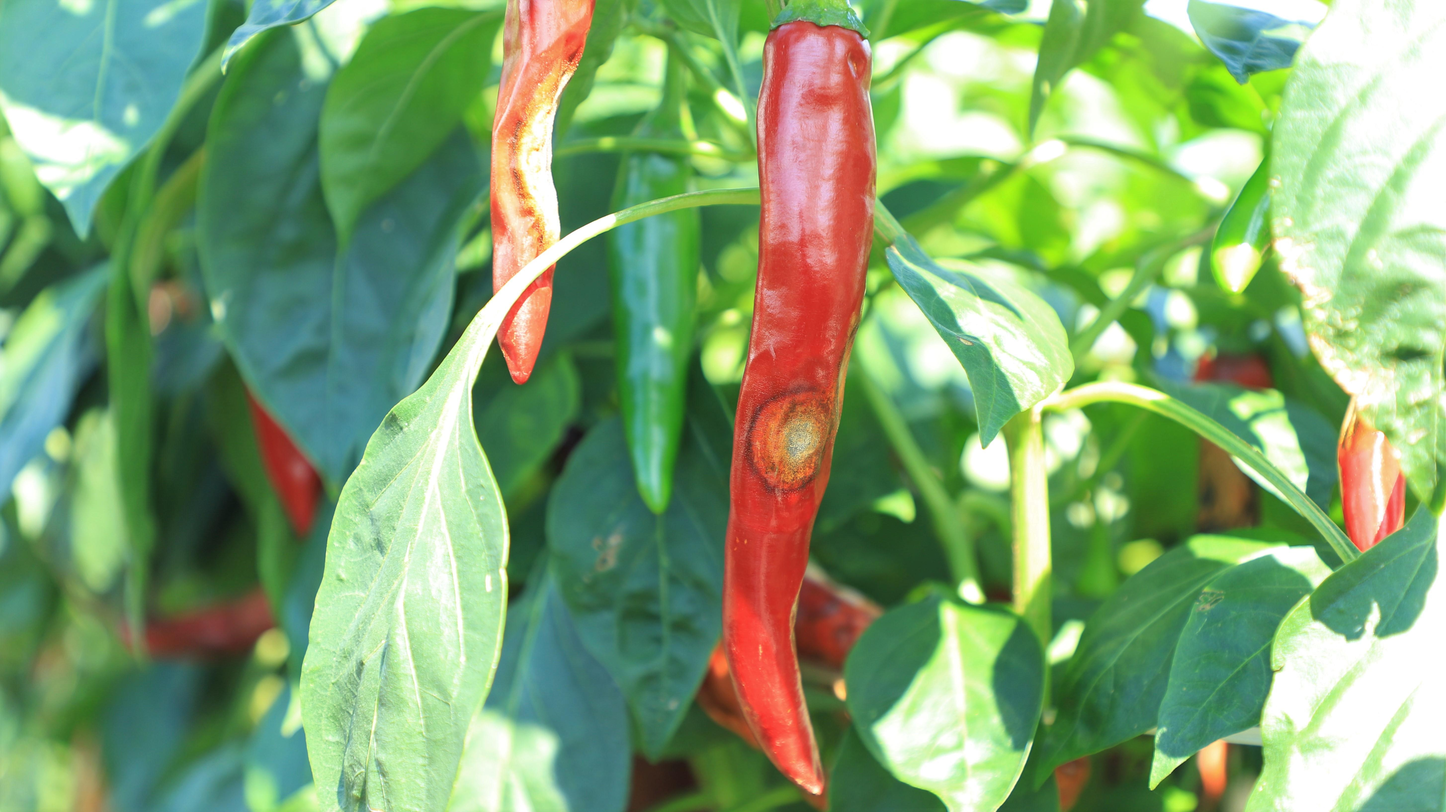Buah Cabai Sehat: (596, 125, 710, 530)
Busuk Buah Antraknosa: (718, 3, 881, 797), (485, 3, 612, 391)
Daun Cabai Sehat: (288, 349, 528, 812), (843, 575, 1048, 812)
